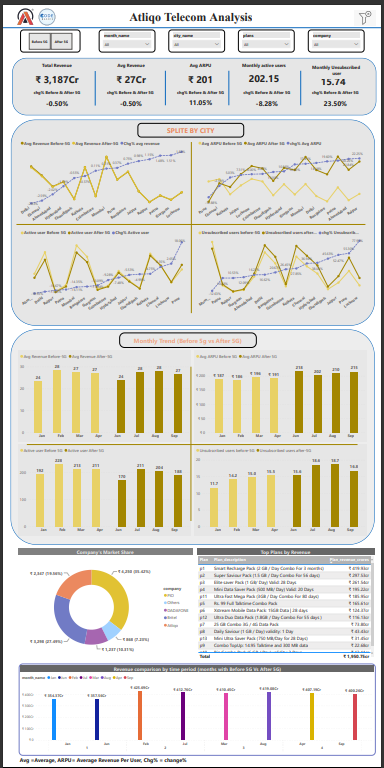

The page's visual inventory and layout, read from the dashboard file:
{"tool":"powerbi","page":{"name":"Telecom analysis","canvas":[1350,2710],"ordinal":0},"visuals":[{"type":"shape","box":[32.6,186.7,1296.7,205],"z":0},{"type":"card","title":"Avg Revenue","fields":{"Values":["Avg(fact_atliqo_metrics.atliqo_revenue_crores)"]},"box":[362.3,201.6,188.5,98.4],"z":1000},{"type":"card","title":"Avg ARPU","fields":{"Values":["Key Measures.Avg ARPU"]},"box":[623.8,201.2,160,100],"z":2000},{"type":"card","title":"Monthly active users","fields":{"Values":["Key Measures.Monthly active users"]},"box":[833.3,201.6,194,94],"z":3000},{"type":"card","title":"Unsubscribed user","fields":{"Values":["Key Measures.Monthly unsubcribed users"]},"box":[1104.9,245.9,142.6,49.2],"z":4000},{"type":"slicer","fields":{"Values":["dim_date.month_name"]},"box":[341.7,86.7,200,80],"z":5000},{"type":"card","title":"Total Revenue","fields":{"Values":["Sum(fact_atliqo_metrics.atliqo_revenue_crores)"]},"box":[90,201.6,205,100],"z":6000},{"type":"card","title":"chg% Before & After 5G","fields":{"Values":["Key Measures.Chg% avg revenue"]},"box":[366.2,300,180,80],"z":7000},{"type":"card","title":"chg% Before & After 5G","fields":{"Values":["Key Measures.Chg% Revenue"]},"box":[103.3,299.8,180,80],"z":8000},{"type":"slicer","fields":{"Values":["dim_date.before/after_5g"]},"box":[61.7,86.7,213.3,80],"z":9000},{"type":"card","title":"chg% Before & After 5G","fields":{"Values":["Key Measures.chg% ARPU"]},"box":[613.3,299.8,182,77],"z":10000},{"type":"card","title":"chg% Before & After 5G","fields":{"Values":["Key Measures.Chg% Avg active user"]},"box":[851.6,299.8,176.7,80],"z":11000},{"type":"shape","box":[27.6,406.7,1296.7,735],"z":12000},{"type":"shape","box":[26.7,1155,1296.7,768.3],"z":13000},{"type":"card","title":"chg% Before & After 5G","fields":{"Values":["Key Measures.chg% USUL"]},"box":[1090.2,299.8,188.5,78.7],"z":14000},{"type":"lineChart","fields":{"Category":["dim_cities.city_name"],"Y":["Key Measures.Avg Revenue Before-5G","Key Measures.Avg Revenue After-5G"],"Y2":["Key Measures.Chg% avg revenue"]},"box":[56.7,470,600,320],"z":15000},{"type":"lineChart","fields":{"Category":["dim_cities.city_name"],"Y":["Key Measures.ARPU Before 5G","Key Measures.ARPU After 5G"],"Y2":["Key Measures.chg% ARPU"]},"box":[690,470,600,320],"z":16000},{"type":"lineChart","fields":{"Category":["dim_cities.city_name"],"Y":["Key Measures.Avg AU Before 5G","Key Measures.Avg AU After 5G"],"Y2":["Key Measures.Chg% Avg active user"]},"box":[56.7,790,600,320],"z":17000},{"type":"lineChart","fields":{"Category":["dim_cities.city_name"],"Y":["Key Measures.Unsubscribed users before-5G","Key Measures.Unsubscribed users after-5G"],"Y2":["Key Measures.chg% Unsubscribed user"]},"box":[690,790,600,320],"z":18000},{"type":"slicer","fields":{"Values":["dim_cities.city_name"]},"box":[590,86.7,200,80],"z":19000},{"type":"textbox","box":[0,11.7,1350,68.3],"z":20000},{"type":"slicer","fields":{"Values":["fact_plan_revenue.plans"]},"box":[838.3,86.7,200,80],"z":21000},{"type":"clusteredColumnChart","fields":{"Category":["dim_date.month_name"],"Y":["Key Measures.Avg Revenue Before-5G","Key Measures.Avg Revenue After-5G"]},"box":[55,1230,615,325],"z":22000},{"type":"clusteredColumnChart","fields":{"Category":["dim_date.month_name"],"Y":["Key Measures.Avg AU Before 5G","Key Measures.Avg AU After 5G"]},"box":[55,1565,615,325],"z":23000},{"type":"clusteredColumnChart","fields":{"Category":["dim_date.month_name"],"Y":["Key Measures.Unsub users before-5G","Key Measures.Unsub users after-5G"]},"box":[681.7,1565,615,325],"z":24000},{"type":"clusteredColumnChart","fields":{"Category":["dim_date.month_name"],"Y":["Key Measures.ARPU Before 5G","Key Measures.ARPU After 5G"]},"box":[681.7,1230,615,325],"z":25000},{"type":"slicer","fields":{"Values":["fact_market_share.company"]},"box":[1086.7,86.7,200,80],"z":26000},{"type":"donutChart","title":"Company''s Market Share","fields":{"Category":["fact_market_share.company","dim_date.month_name"],"Y":["Sum(fact_market_share.ms_pct)"]},"box":[53.3,1935,623.3,398.3],"z":27000},{"type":"tableEx","title":"Top Plans by Revenue","fields":{"Values":["dim_plan.Plan","dim_plan.Plan_description","Sum(fact_plan_revenue.plan_revenue_crores)"]},"box":[690,1935.4,633.8,401.2],"z":28000},{"type":"shape","box":[0,71.7,1350,15],"z":29000},{"type":"image","box":[45,5,66.7,66.7],"z":30000},{"type":"clusteredColumnChart","title":"Revenue comparison by time period (months with Before 5G Vs After 5G)","fields":{"Category":["dim_date.month_name","dim_date.time_period"],"Series":["dim_date.month_name"],"Y":["Sum(fact_atliqo_metrics.atliqo_revenue_crores)"]},"box":[56.7,2346.7,1270,326.7],"z":31000},{"type":"textbox","box":[480,420,378.3,50],"z":32000},{"type":"textbox","box":[415,1166.7,488.3,53],"z":33000},{"type":"textbox","box":[1081.7,205,210,55],"z":34000},{"type":"shape","box":[316.4,234.4,24.6,123],"z":35000},{"type":"shape","box":[1047.5,232.8,24.6,123],"z":36000},{"type":"shape","box":[791.8,232.8,24.6,123],"z":37000},{"type":"shape","box":[565.6,232.8,24.6,123],"z":38000},{"type":"textbox","box":[55,2673.3,1266.7,36.7],"z":39000},{"type":"image","box":[123,4.9,70.5,72.1],"z":40000},{"type":"shape","box":[48.3,775,1243.3,11.7],"z":41000},{"type":"shape","box":[665,486.7,11.7,610],"z":42000},{"type":"shape","box":[85,1558.3,1178.3,15],"z":43000},{"type":"shape","box":[663.3,1288.3,13.3,550],"z":44000},{"type":"image","box":[1243.3,11.7,93.3,65],"z":45000}]}

Visuals, with their boxes in screenshot pixels (x1, y1, x2, y2), scaled from the page's 1350x2710 canvas onto the 384x768 screenshot:
shape: [x1=9, y1=53, x2=378, y2=111]
"Avg Revenue" card: [x1=103, y1=57, x2=157, y2=85]
"Avg ARPU" card: [x1=177, y1=57, x2=223, y2=85]
"Monthly active users" card: [x1=237, y1=57, x2=292, y2=84]
"Unsubscribed user" card: [x1=314, y1=70, x2=355, y2=84]
slicer - dim_date.month_name: [x1=97, y1=25, x2=154, y2=47]
"Total Revenue" card: [x1=26, y1=57, x2=84, y2=85]
"chg% Before & After 5G" card: [x1=104, y1=85, x2=155, y2=108]
"chg% Before & After 5G" card: [x1=29, y1=85, x2=81, y2=108]
slicer - dim_date.before/after_5g: [x1=18, y1=25, x2=78, y2=47]
"chg% Before & After 5G" card: [x1=174, y1=85, x2=226, y2=107]
"chg% Before & After 5G" card: [x1=242, y1=85, x2=292, y2=108]
shape: [x1=8, y1=115, x2=377, y2=324]
shape: [x1=8, y1=327, x2=376, y2=545]
"chg% Before & After 5G" card: [x1=310, y1=85, x2=364, y2=107]
lineChart - dim_cities.city_name x Key Measures.Avg Revenue Before-5G: [x1=16, y1=133, x2=187, y2=224]
lineChart - dim_cities.city_name x Key Measures.ARPU Before 5G: [x1=196, y1=133, x2=367, y2=224]
lineChart - dim_cities.city_name x Key Measures.Avg AU Before 5G: [x1=16, y1=224, x2=187, y2=315]
lineChart - dim_cities.city_name x Key Measures.Unsubscribed users before-5G: [x1=196, y1=224, x2=367, y2=315]
slicer - dim_cities.city_name: [x1=168, y1=25, x2=225, y2=47]
textbox: [x1=0, y1=3, x2=383, y2=23]
slicer - fact_plan_revenue.plans: [x1=238, y1=25, x2=295, y2=47]
clusteredColumnChart - dim_date.month_name x Key Measures.Avg Revenue Before-5G: [x1=16, y1=349, x2=191, y2=441]
clusteredColumnChart - dim_date.month_name x Key Measures.Avg AU Before 5G: [x1=16, y1=444, x2=191, y2=536]
clusteredColumnChart - dim_date.month_name x Key Measures.Unsub users before-5G: [x1=194, y1=444, x2=369, y2=536]
clusteredColumnChart - dim_date.month_name x Key Measures.ARPU Before 5G: [x1=194, y1=349, x2=369, y2=441]
slicer - fact_market_share.company: [x1=309, y1=25, x2=366, y2=47]
"Company''s Market Share" donutChart: [x1=15, y1=548, x2=192, y2=661]
"Top Plans by Revenue" tableEx: [x1=196, y1=548, x2=377, y2=662]
shape: [x1=0, y1=20, x2=383, y2=25]
image: [x1=13, y1=1, x2=32, y2=20]
"Revenue comparison by time period (months with Before 5G Vs After 5G)" clusteredColumnChart: [x1=16, y1=665, x2=377, y2=758]
textbox: [x1=137, y1=119, x2=244, y2=133]
textbox: [x1=118, y1=331, x2=257, y2=346]
textbox: [x1=308, y1=58, x2=367, y2=74]
shape: [x1=90, y1=66, x2=97, y2=101]
shape: [x1=298, y1=66, x2=305, y2=101]
shape: [x1=225, y1=66, x2=232, y2=101]
shape: [x1=161, y1=66, x2=168, y2=101]
textbox: [x1=16, y1=758, x2=376, y2=767]
image: [x1=35, y1=1, x2=55, y2=22]
shape: [x1=14, y1=220, x2=367, y2=223]
shape: [x1=189, y1=138, x2=192, y2=311]
shape: [x1=24, y1=442, x2=359, y2=446]
shape: [x1=189, y1=365, x2=192, y2=521]
image: [x1=354, y1=3, x2=380, y2=22]
